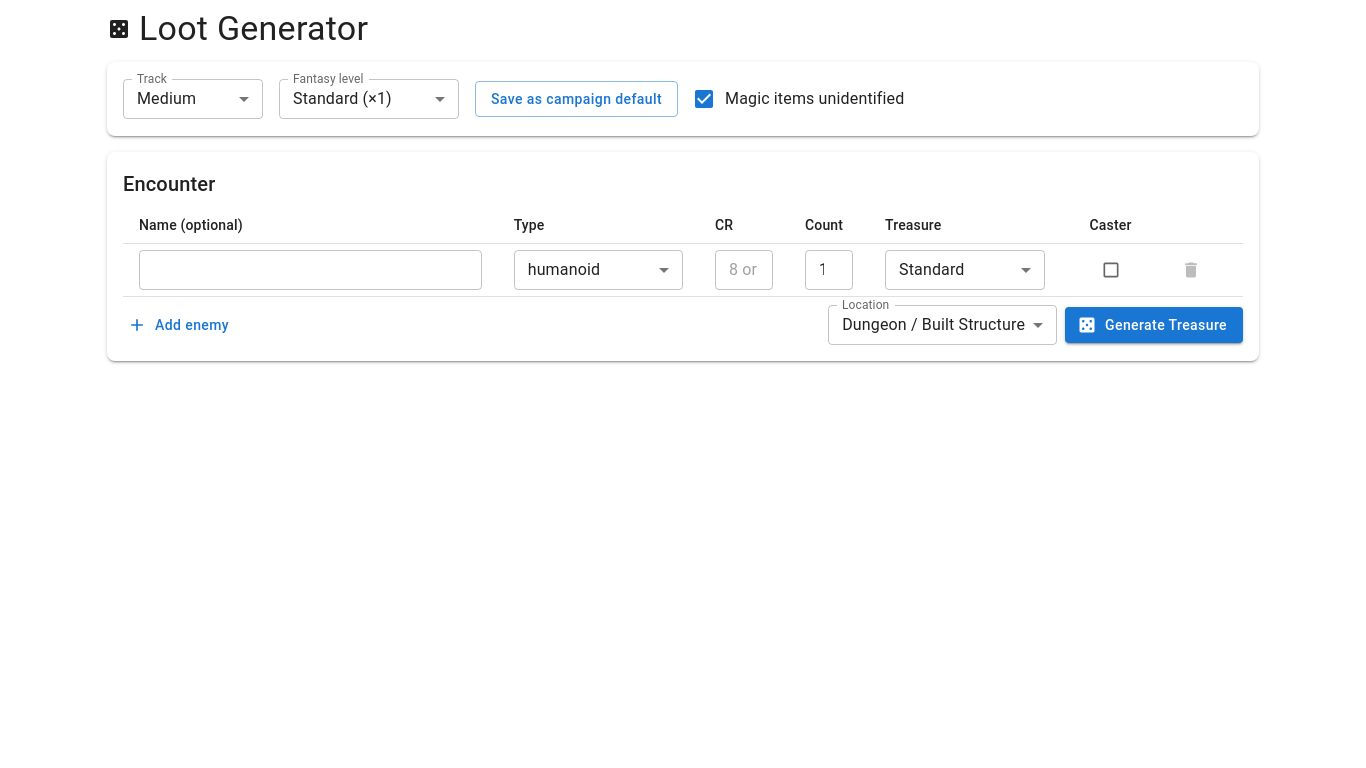
Scenario: LootGenerator › recalculates the Total chip after an item is removed
This screenshot has width=1366, height=768.
Click the button "Generate Treasure" at (1154, 325), box [1065,307,1243,343]
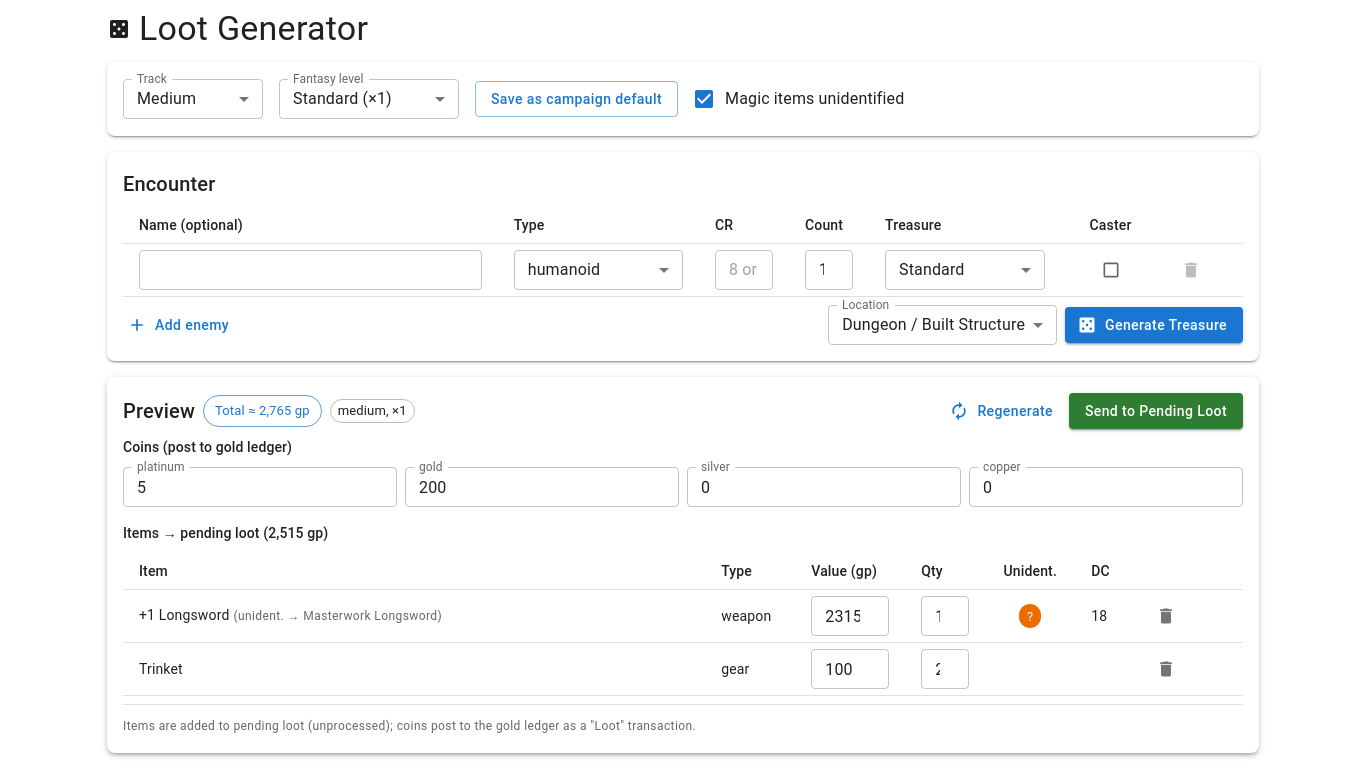
Expected: the text "Total ≈ 2,765 gp" is shown, [215,403,310,418]
remove the +1 Longsword (2315 gp)
Click the button named "remove item" in the row of "+1 Longsword" at (1166, 616), box [1151,601,1181,631]
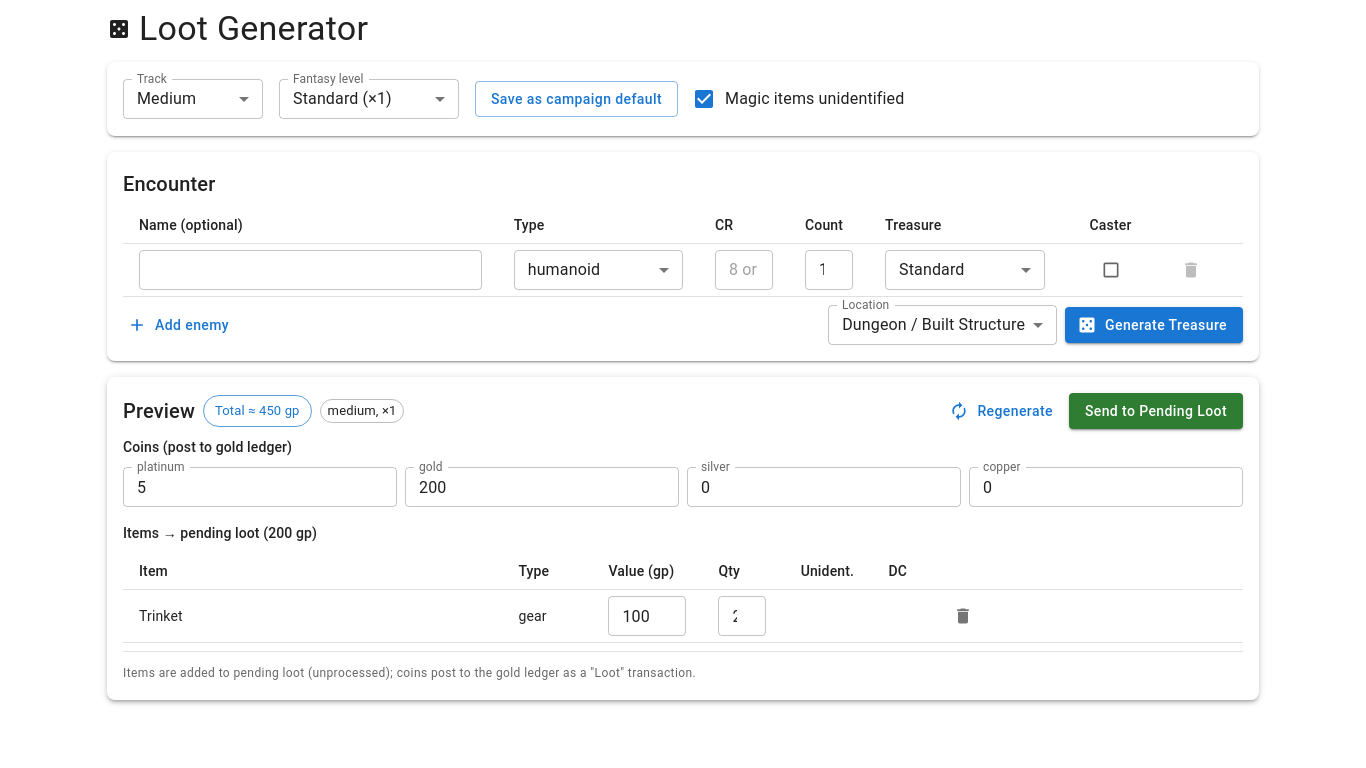
Expected: the text "Total ≈ 450 gp" is shown, [215,403,300,418]
